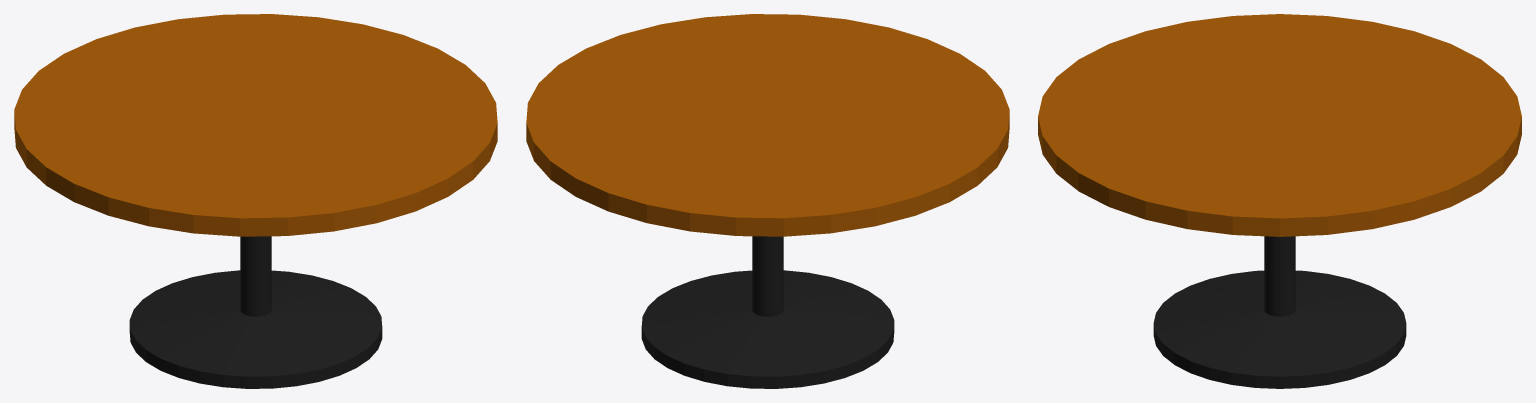
Rendered from cylinderTable.fbx.
The picture shows the model from 3 angles, left to right: view 1: azimuth 30°, elevation 25°; view 2: azimuth 150°, elevation 25°; view 3: azimuth 270°, elevation 25°; orthographic projection.
Visible parts, largest first — view 1: cylinderTable; view 2: cylinderTable; view 3: cylinderTable.
Part boxes in pixels (<box>): cylinderTable: <box>14,14,497,388</box>; cylinderTable: <box>526,14,1009,388</box>; cylinderTable: <box>1038,14,1521,388</box>.
Size of the model in its own units: 100 by 50 by 100.
